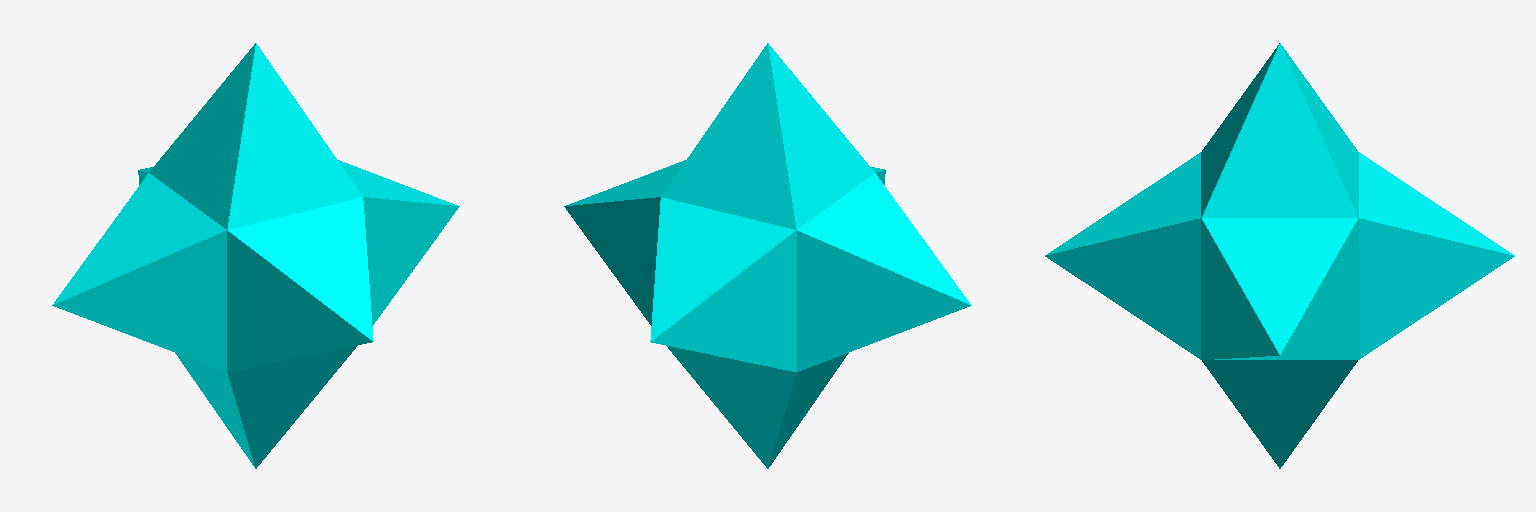
File: diastar1.obj
The picture shows the model from 3 angles: view 1: azimuth 30°, elevation 25°; view 2: azimuth 150°, elevation 25°; view 3: azimuth 270°, elevation 25°; orthographic projection.
Parts seen in each view (by area): view 1: Object.1; view 2: Object.1; view 3: Object.1.
Part boxes in pixels (left/top/right/bottom): Object.1: left=52, top=43, right=459, bottom=468; Object.1: left=564, top=43, right=971, bottom=468; Object.1: left=1045, top=43, right=1514, bottom=468.
Size of the model in its own units: 1 by 1 by 1.